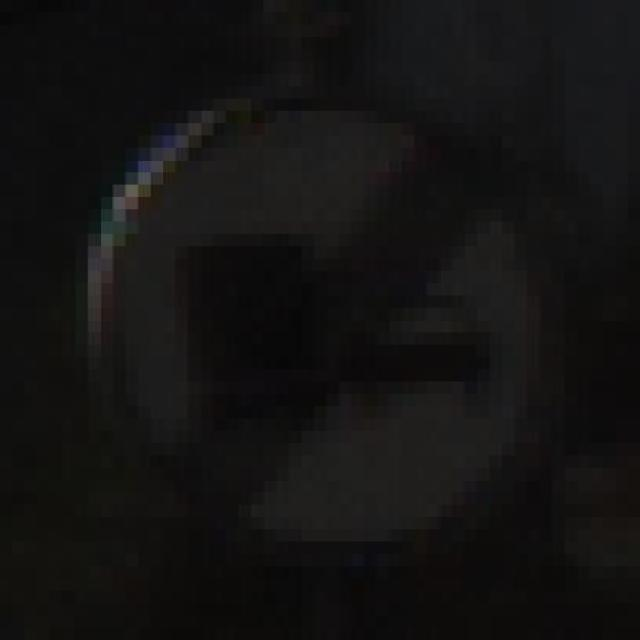Overtaking by trucks is prohibited: (25, 37, 590, 578)
